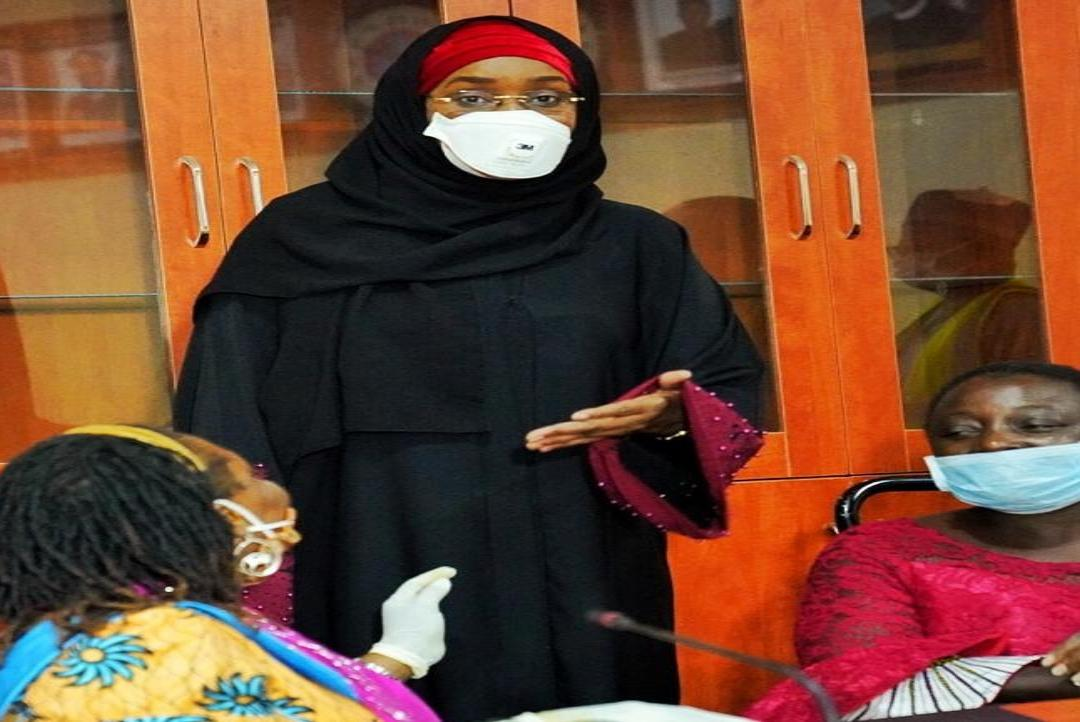mask_weared_incorrect: (921, 364, 1079, 517)
